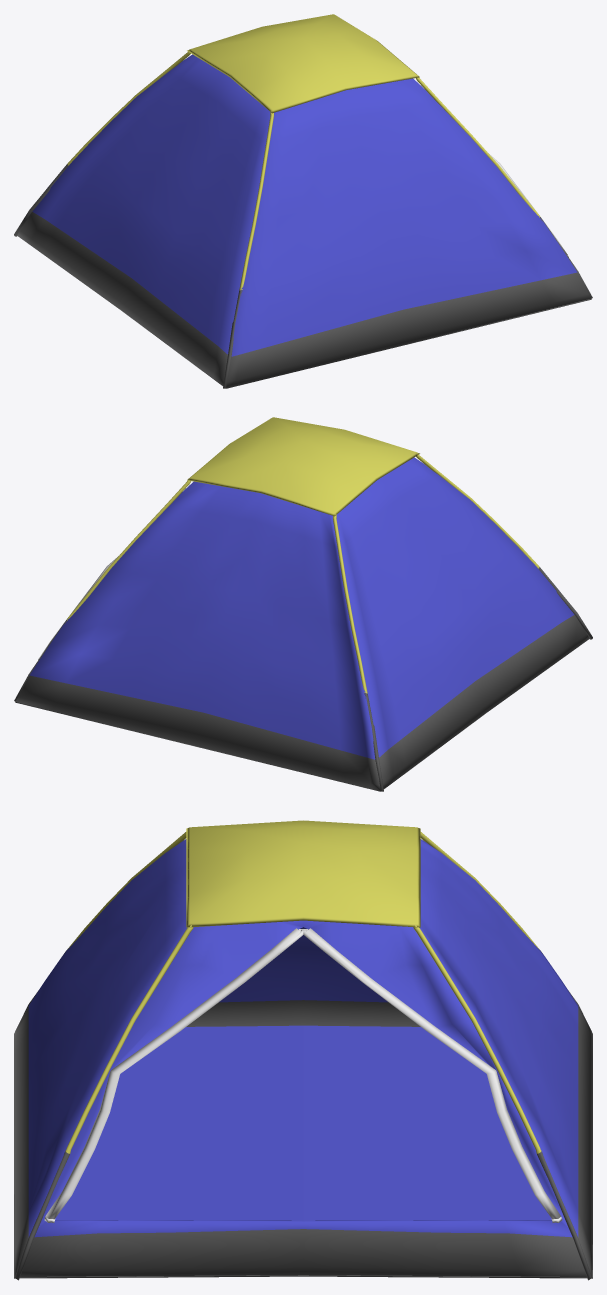
File: Barraca-03.fbx
The picture shows the model from 3 angles, top to bottom: view 1: azimuth 30°, elevation 25°; view 2: azimuth 150°, elevation 25°; view 3: azimuth 270°, elevation 25°; orthographic projection. The views are drawn at different scales.
Parts seen in each view (by area): view 1: Plane; view 2: Plane; view 3: Plane.
Boxes of the visible parts, bbox=[...] form: Plane: bbox=[14, 14, 592, 388]; Plane: bbox=[14, 417, 592, 791]; Plane: bbox=[14, 820, 592, 1280].
Size of the model in its own units: 537 by 319 by 532.
